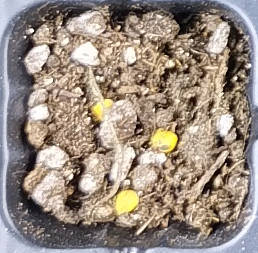chilli seed: (150, 130, 177, 152), (115, 189, 139, 213), (91, 98, 113, 119)
